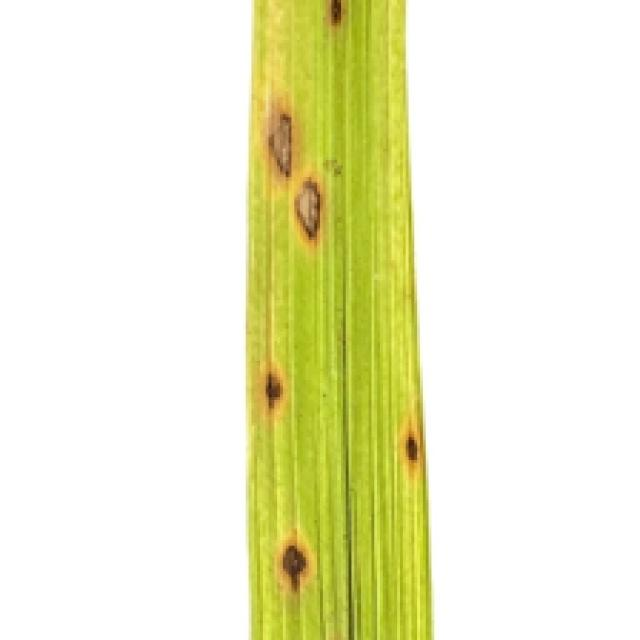Rice___Rice_Blast: (245, 0, 433, 637)
